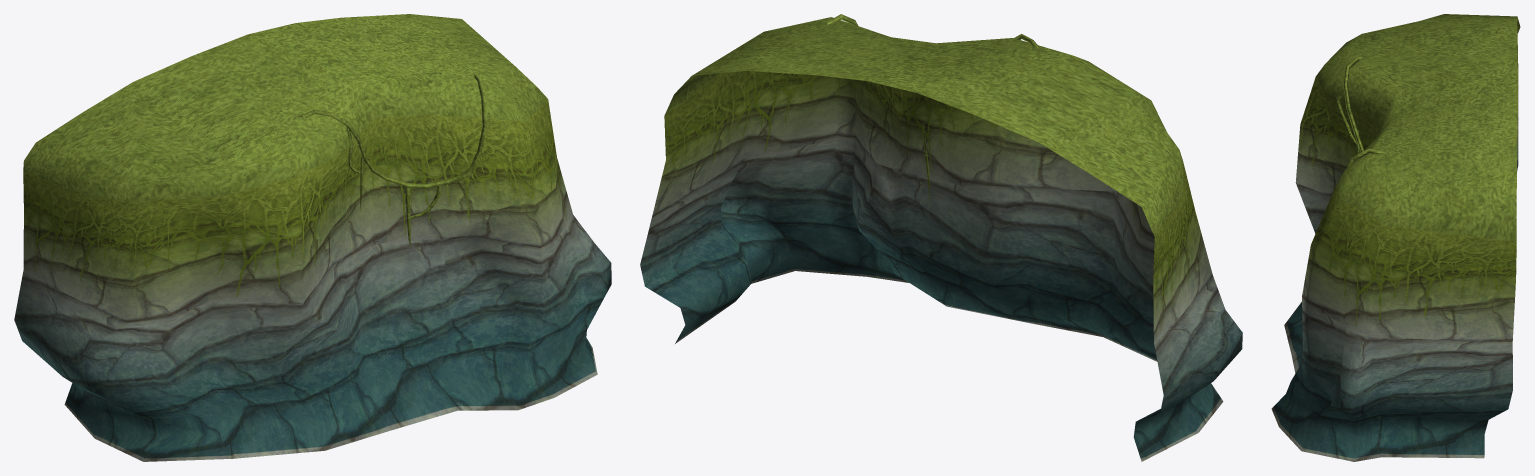
File: beach cliff B.FBX
3 renders of one model, left to right at view 1: azimuth 30°, elevation 25°; view 2: azimuth 150°, elevation 25°; view 3: azimuth 270°, elevation 25°, orthographic. The views are drawn at different scales.
Parts seen in each view (by area): view 1: beach cliff B; view 2: beach cliff B; view 3: beach cliff B.
Part boxes in pixels (left/top/right/bottom): beach cliff B: left=14, top=14, right=611, bottom=461; beach cliff B: left=640, top=14, right=1242, bottom=461; beach cliff B: left=1271, top=14, right=1520, bottom=461.
Size of the model in its own units: 30.92 by 18.12 by 14.22.
Materials: 3 (3 with a texture image).
